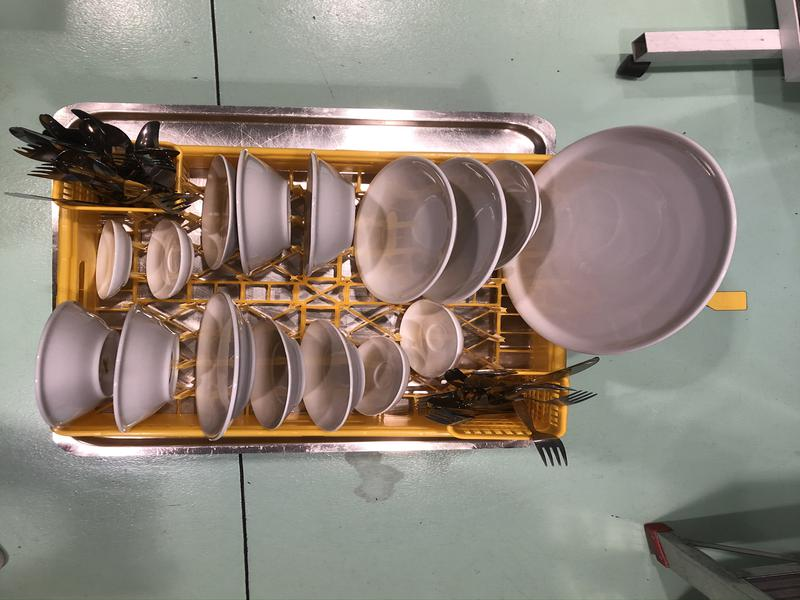Cutlery: (418, 355, 600, 469), (1, 108, 191, 215)
Dish: (505, 127, 735, 355), (352, 156, 456, 304), (447, 154, 508, 313), (36, 299, 105, 427), (113, 304, 176, 432), (232, 151, 292, 275), (198, 291, 246, 441), (297, 321, 356, 431), (303, 151, 352, 277), (249, 317, 303, 430), (490, 159, 542, 269), (396, 302, 462, 376), (356, 333, 407, 418), (202, 154, 235, 269), (145, 220, 190, 300), (94, 221, 133, 298)
